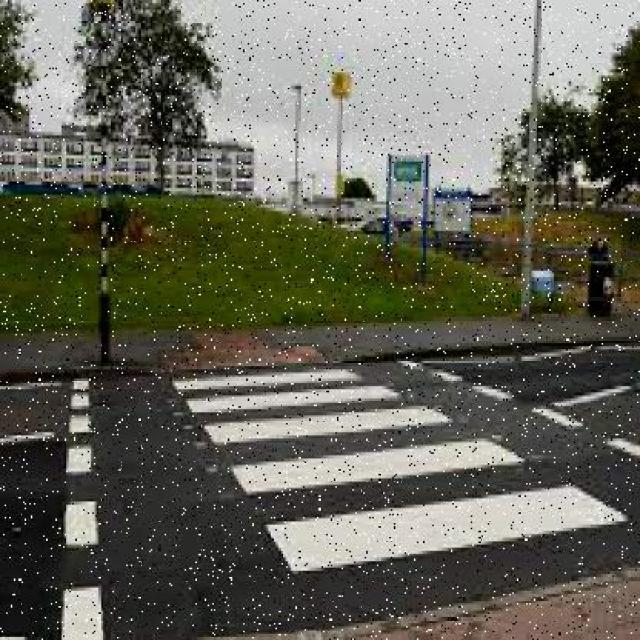crosswalk: (168, 361, 639, 628)
